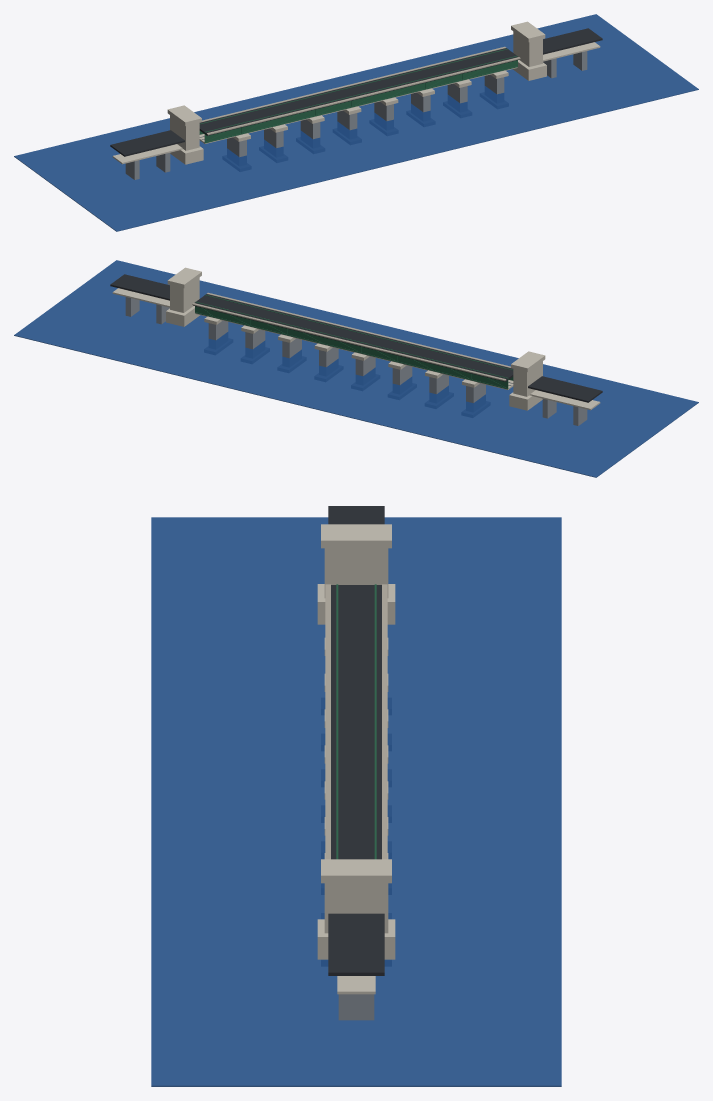
Rendered from wuhan-yangtze-river-bridge.glb.
3 renders of one model, top to bottom at view 1: azimuth 30°, elevation 25°; view 2: azimuth 150°, elevation 25°; view 3: azimuth 270°, elevation 25°, orthographic. The views are drawn at different scales.
Parts seen in each view (by area): view 1: River-Surface, Road-Approach-West, Road-Approach-East, Bridgehead-East-Tower, Bridgehead-West-Tower, Span-7-Road-Deck, Span-1-Road-Deck, Span-3-Road-Deck, Span-8-Road-Deck, Span-2-Road-Deck, Span-4-Road-Deck, Span-5-Road-Deck (+7 smaller); view 2: River-Surface, Road-Approach-West, Road-Approach-East, Bridgehead-East-Tower, Bridgehead-West-Tower, Span-7-Road-Deck, Span-1-Road-Deck, Span-3-Road-Deck, Span-8-Road-Deck, Span-2-Road-Deck, Span-4-Road-Deck, Span-5-Road-Deck (+7 smaller); view 3: River-Surface, Road-Approach-East, Bridgehead-West-Tower, Bridgehead-East-Tower, Span-3-Road-Deck, Span-4-Road-Deck, Span-6-Road-Deck, Span-7-Road-Deck, Span-5-Road-Deck, Bridgehead-West-Roof, Bridgehead-East-Roof, Span-1-Road-Deck (+5 smaller).
Part boxes in pixels (box(x1,y1,x2,y2)): River-Surface: box(14, 14, 698, 231); Road-Approach-West: box(110, 130, 184, 156); Road-Approach-East: box(543, 28, 602, 54); Bridgehead-East-Tower: box(513, 31, 542, 66); Bridgehead-West-Tower: box(170, 115, 199, 150); Span-7-Road-Deck: box(415, 61, 464, 81); Span-1-Road-Deck: box(199, 115, 243, 135); Span-3-Road-Deck: box(268, 97, 317, 117); Span-8-Road-Deck: box(451, 52, 501, 72); Span-2-Road-Deck: box(231, 106, 280, 126); Span-4-Road-Deck: box(304, 88, 353, 108); Span-5-Road-Deck: box(341, 79, 390, 99); River-Surface: box(14, 260, 698, 477); Road-Approach-West: box(528, 376, 602, 402); Road-Approach-East: box(110, 274, 169, 300); Bridgehead-East-Tower: box(170, 277, 199, 312); Bridgehead-West-Tower: box(513, 361, 542, 396); Span-7-Road-Deck: box(248, 307, 297, 327); Span-1-Road-Deck: box(469, 361, 513, 381); Span-3-Road-Deck: box(395, 343, 444, 363); Span-8-Road-Deck: box(211, 298, 261, 318); Span-2-Road-Deck: box(432, 352, 481, 372); Span-4-Road-Deck: box(359, 334, 408, 354); Span-5-Road-Deck: box(322, 325, 371, 345); River-Surface: box(151, 517, 561, 1086); Road-Approach-East: box(328, 913, 384, 975); Bridgehead-West-Tower: box(324, 548, 388, 597); Bridgehead-East-Tower: box(324, 883, 388, 933); Span-3-Road-Deck: box(331, 656, 381, 692); Span-4-Road-Deck: box(331, 692, 381, 728); Span-6-Road-Deck: box(331, 764, 381, 800); Span-7-Road-Deck: box(331, 800, 381, 836); Span-5-Road-Deck: box(331, 728, 381, 764); Bridgehead-West-Roof: box(321, 524, 391, 548); Bridgehead-East-Roof: box(321, 859, 391, 883); Span-1-Road-Deck: box(331, 585, 381, 620).
Size of the model in its own units: 190 by 19.7 by 58.
